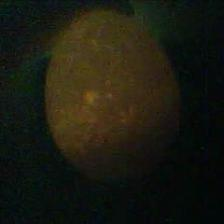fertile: (44, 7, 178, 179)
